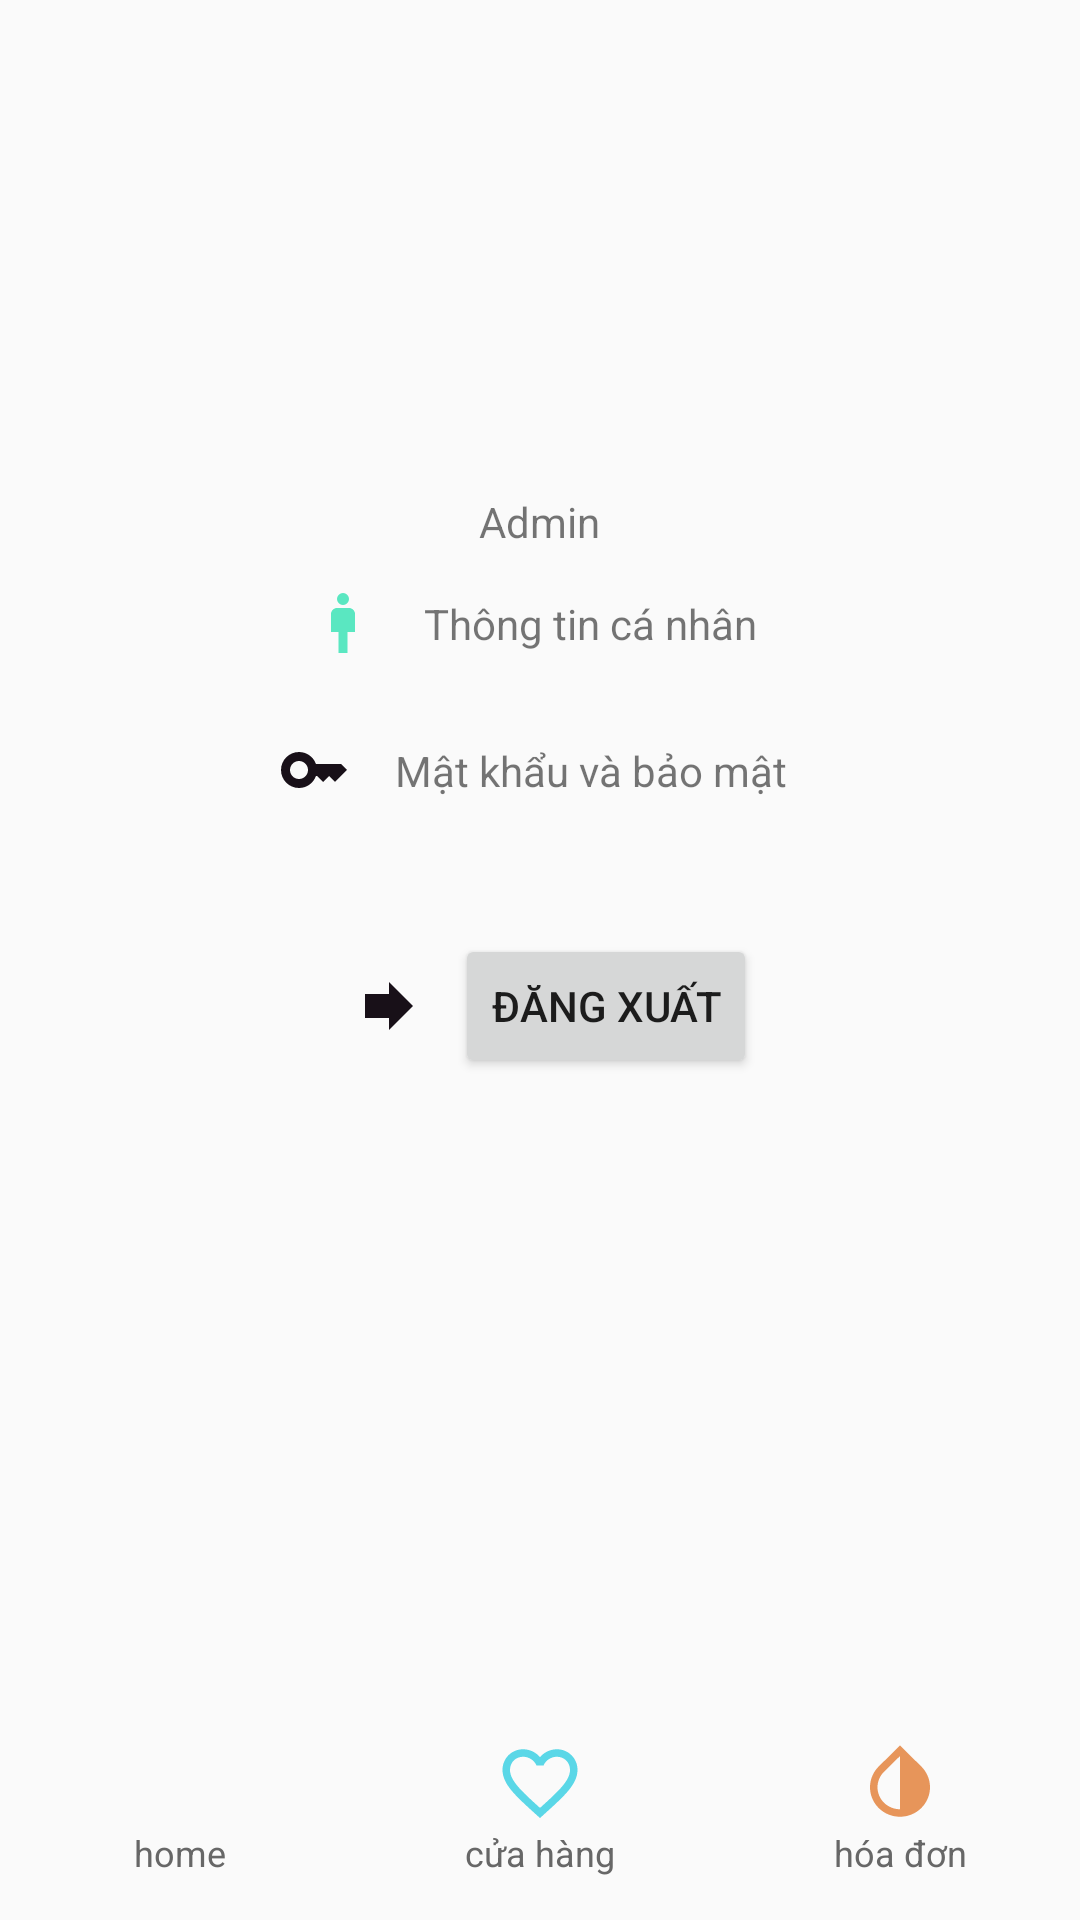

Icons on this 1080*1920 Android screen, each with the point to tap as [x,y]:
thoat: [389,1006]
thongtin: [343,623]
